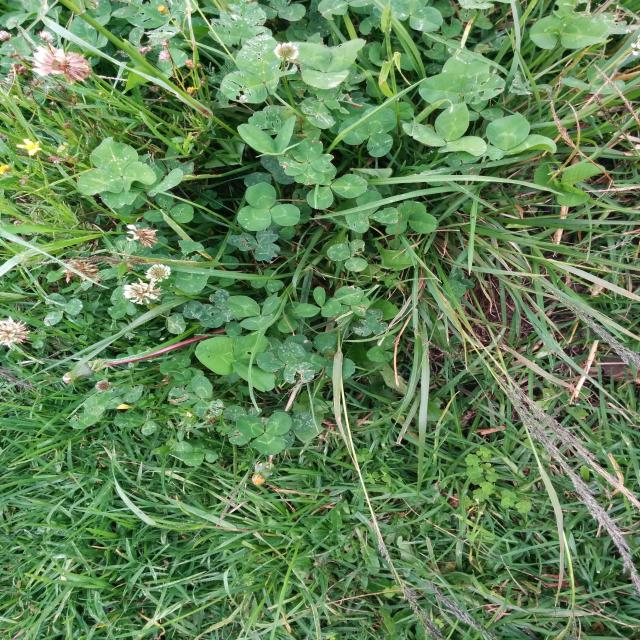Four Leaf Clover: (277, 138, 334, 185)
